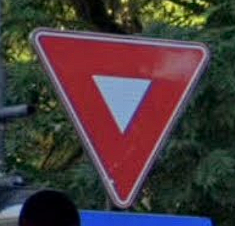cedeaza: (23, 20, 219, 213)
